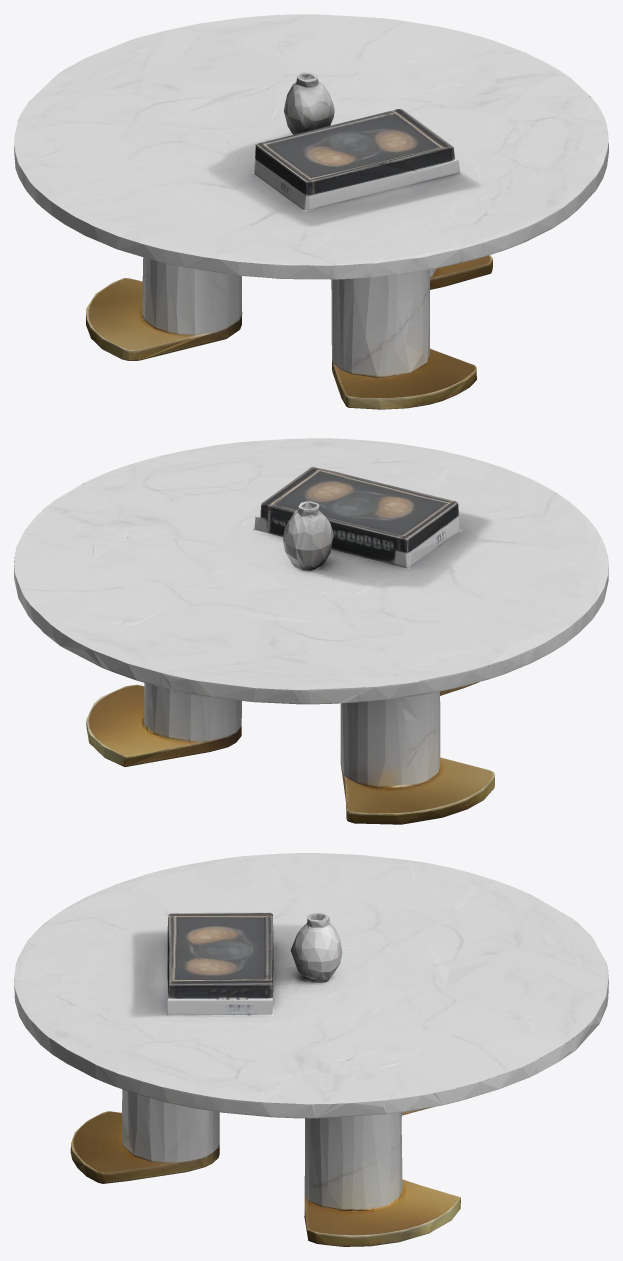
Rendered from coffeeTable.glb.
3 views of the same model, one above another, from view 1: azimuth 30°, elevation 25°; view 2: azimuth 150°, elevation 25°; view 3: azimuth 270°, elevation 25° (orthographic).
Parts seen in each view (by area): view 1: world; view 2: world; view 3: world.
Part boxes in pixels (x1,y1,x2,y2): world: (14,14,608,409); world: (14,438,608,824); world: (14,853,608,1246).
Bounding box in the file's own units: 0.9999 × 0.4393 × 0.9991.
Materials: 1 (1 with a texture image).
